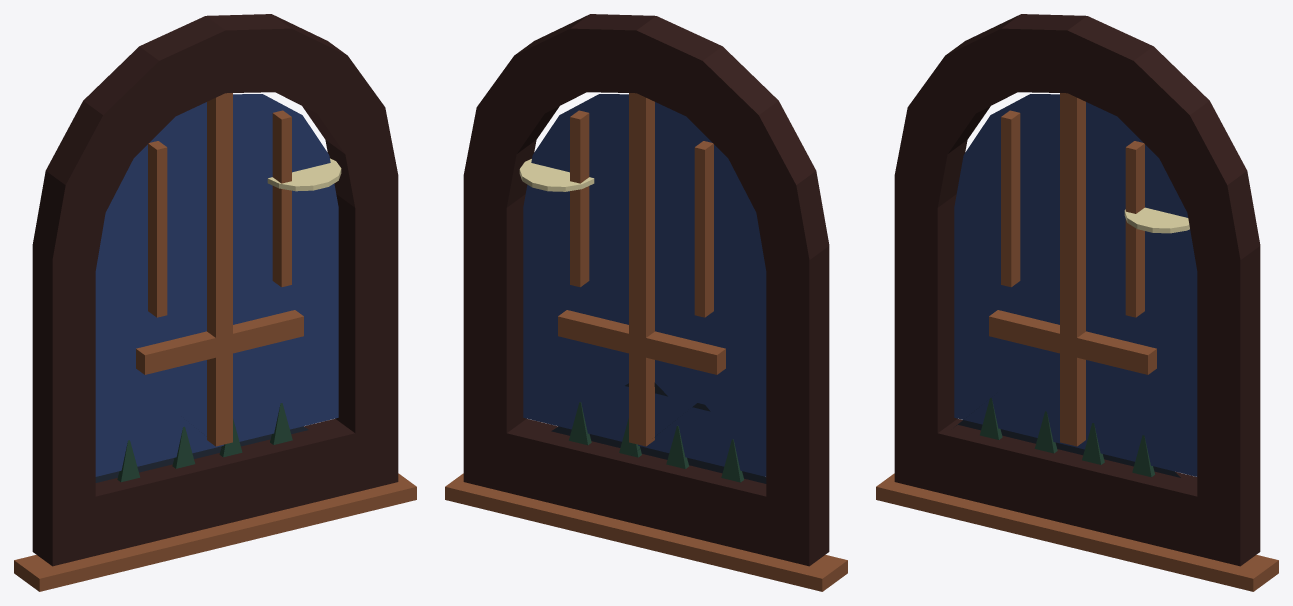
The model's file is gothic_window.obj.
3 views of the same model, side by side, from view 1: azimuth 30°, elevation 25°; view 2: azimuth 150°, elevation 25°; view 3: azimuth 330°, elevation 25° (orthographic).
Bounding box in the file's own units: 2.4 × 3.12 × 0.429.
